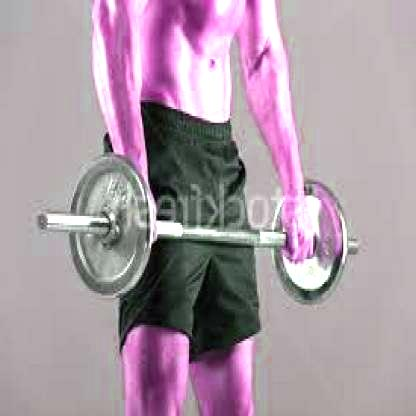Barbell: (31, 208, 52, 237)
